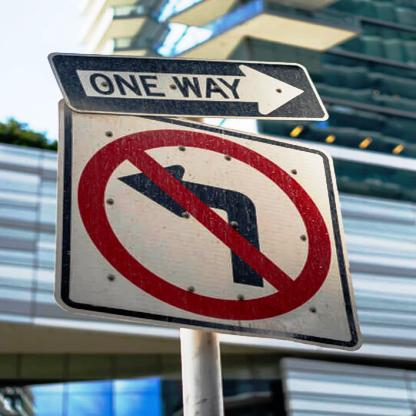No left turn: (72, 113, 342, 333)
